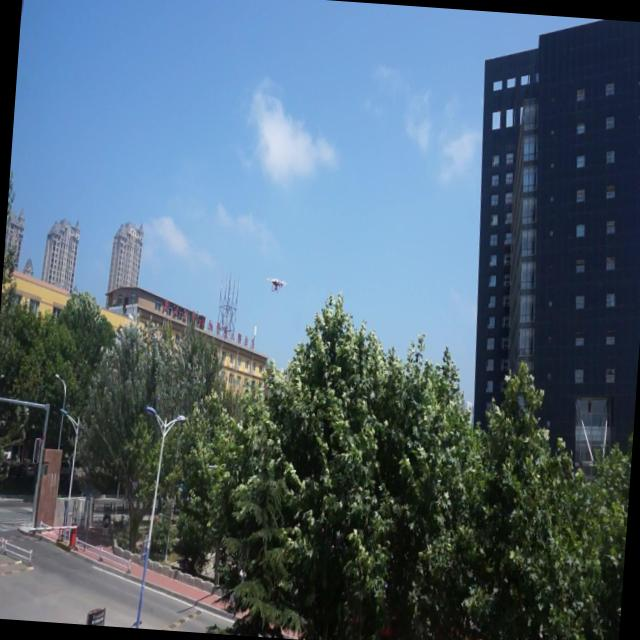drone: (268, 274, 289, 294)
